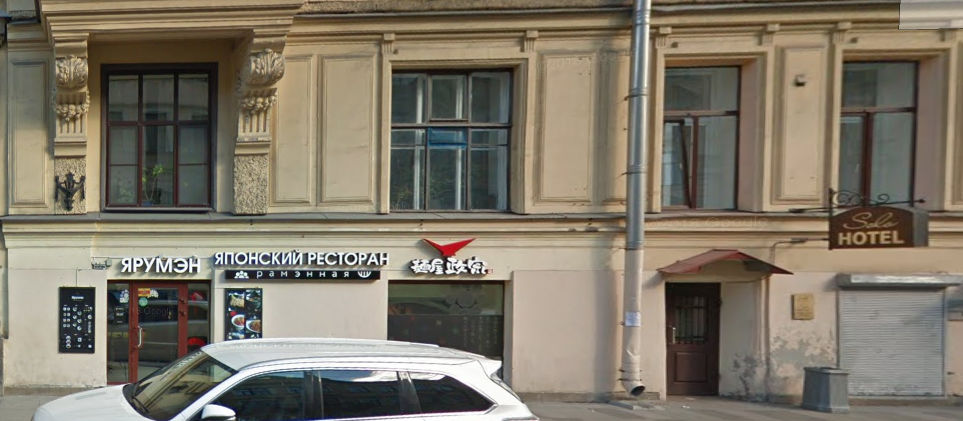cantilever: (788, 177, 936, 259)
door: (663, 284, 720, 397)
signboard: (118, 232, 500, 286)
window: (393, 67, 503, 214), (102, 70, 211, 210), (664, 62, 743, 214), (841, 62, 915, 205), (106, 282, 208, 379), (390, 283, 506, 355)
